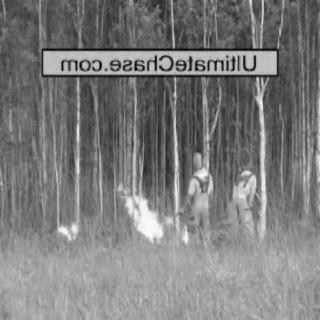Fire: (116, 179, 178, 245), (59, 219, 82, 239), (179, 210, 192, 243)
other: (231, 190, 247, 202)
